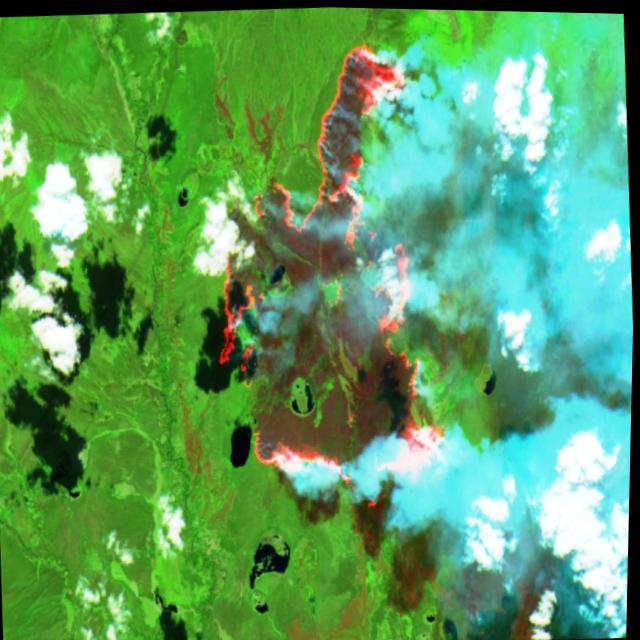fire: (194, 29, 462, 521)
